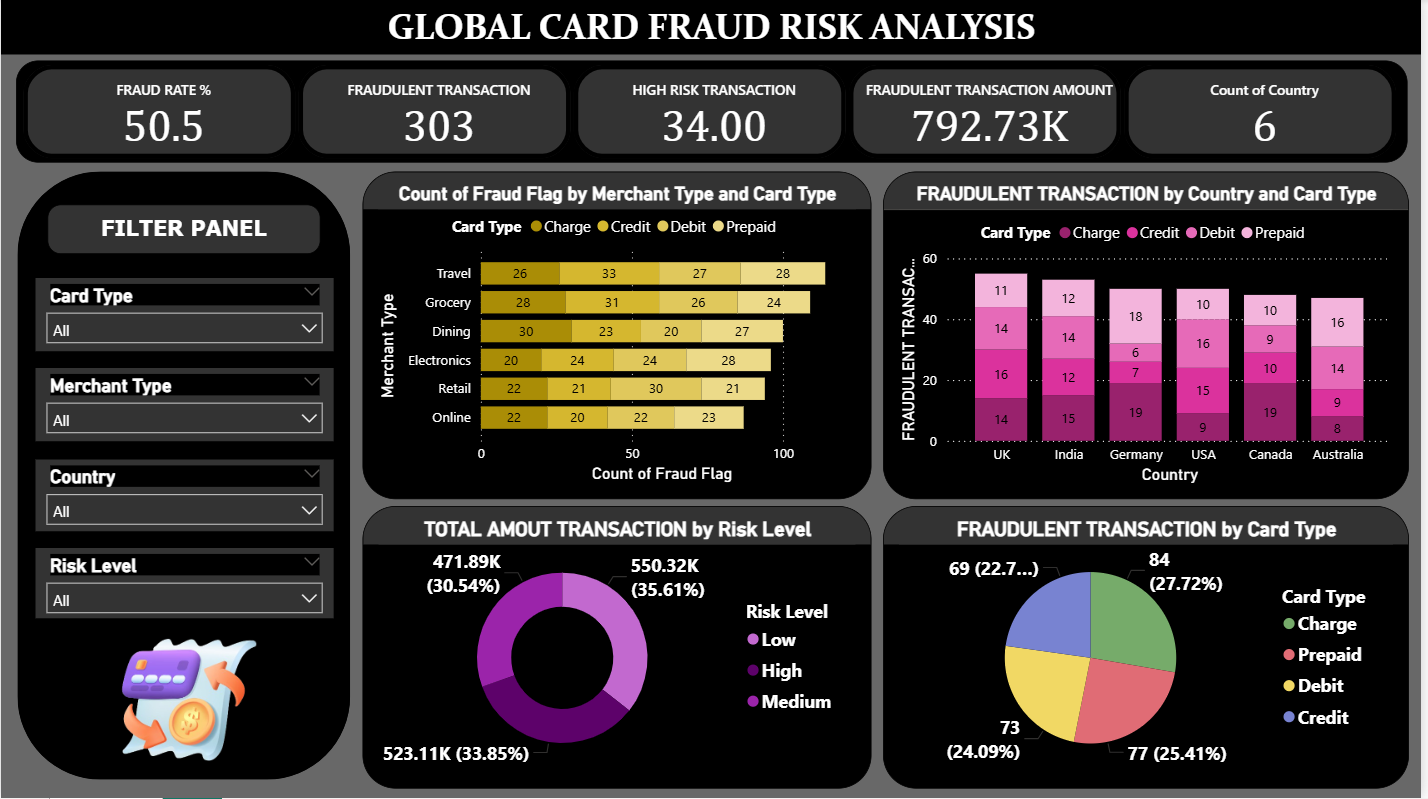

What the dashboard file says about the page in this screenshot:
{"tool":"powerbi","page":{"name":"Page 1","canvas":[1280,720],"ordinal":0},"visuals":[{"type":"barChart","fields":{"Y":["CountNonNull(card_risk_analysis_dataset.Fraud Flag)"],"Category":["card_risk_analysis_dataset.Merchant Type"],"Series":["card_risk_analysis_dataset.Card Type"]},"box":[325.6,156,458.8,295.3],"z":0},{"type":"donutChart","fields":{"Y":["card_risk_analysis_dataset.TOTAL AMOUT TRANSACTION"],"Category":["card_risk_analysis_dataset.Risk Level"]},"box":[325.6,457.3,458.8,254.4],"z":1000},{"type":"columnChart","fields":{"Category":["card_risk_analysis_dataset.Country"],"Y":["card_risk_analysis_dataset.FRAUDULENT TRANSACTION"],"Series":["card_risk_analysis_dataset.Card Type"]},"box":[795,156,473.9,295],"z":2000},{"type":"pieChart","fields":{"Y":["card_risk_analysis_dataset.FRAUDULENT TRANSACTION"],"Category":["card_risk_analysis_dataset.Card Type"]},"box":[795,457.3,473.9,254.4],"z":3000},{"type":"shape","box":[15.1,156,299.8,548.1],"z":4000},{"type":"textbox","box":[41.9,185.2,246,44.6],"z":5000},{"type":"slicer","fields":{"Values":["card_risk_analysis_dataset.Country"]},"box":[31.1,415,269,64.9],"z":6000},{"type":"slicer","fields":{"Values":["card_risk_analysis_dataset.Card Type"]},"box":[31.1,251.4,269,66.2],"z":7000},{"type":"slicer","fields":{"Values":["card_risk_analysis_dataset.Merchant Type"]},"box":[31.1,332.5,269,66.2],"z":8000},{"type":"textbox","box":[0,0,1280.1,50],"z":9000},{"type":"cardVisual","fields":{"Data":["card_risk_analysis_dataset.FRAUD RATE %","card_risk_analysis_dataset.FRAUDULENT TRANSACTION","card_risk_analysis_dataset.HIGH RISK TRANSACTION","card_risk_analysis_dataset.FRAUDULENT TRANSACTION AMOUNT","Count(card_risk_analysis_dataset.Country)"]},"box":[13.6,56,1253.8,92],"z":10000},{"type":"slicer","fields":{"Values":["card_risk_analysis_dataset.Risk Level"]},"box":[31.1,494.7,269,63.5],"z":11000},{"type":"image","box":[91.9,558.3,147.3,146],"z":12000}]}

Visuals, with their boxes in screenshot pixels (x1, y1, x2, y2), scaled from the page's 1280x720 canvas onto the 1428x799 screenshot:
barChart - CountNonNull(card_risk_analysis_dataset.Fraud Flag) x card_risk_analysis_dataset.Merchant Type: left=363, top=173, right=875, bottom=501
donutChart - card_risk_analysis_dataset.TOTAL AMOUT TRANSACTION x card_risk_analysis_dataset.Risk Level: left=363, top=507, right=875, bottom=790
columnChart - card_risk_analysis_dataset.Country x card_risk_analysis_dataset.FRAUDULENT TRANSACTION: left=887, top=173, right=1416, bottom=500
pieChart - card_risk_analysis_dataset.FRAUDULENT TRANSACTION x card_risk_analysis_dataset.Card Type: left=887, top=507, right=1416, bottom=790
shape: left=17, top=173, right=351, bottom=781
textbox: left=47, top=206, right=321, bottom=255
slicer - card_risk_analysis_dataset.Country: left=35, top=461, right=335, bottom=533
slicer - card_risk_analysis_dataset.Card Type: left=35, top=279, right=335, bottom=352
slicer - card_risk_analysis_dataset.Merchant Type: left=35, top=369, right=335, bottom=442
textbox: left=0, top=0, right=1427, bottom=55
cardVisual - card_risk_analysis_dataset.FRAUD RATE % x card_risk_analysis_dataset.FRAUDULENT TRANSACTION: left=15, top=62, right=1414, bottom=164
slicer - card_risk_analysis_dataset.Risk Level: left=35, top=549, right=335, bottom=619
image: left=103, top=620, right=267, bottom=782
